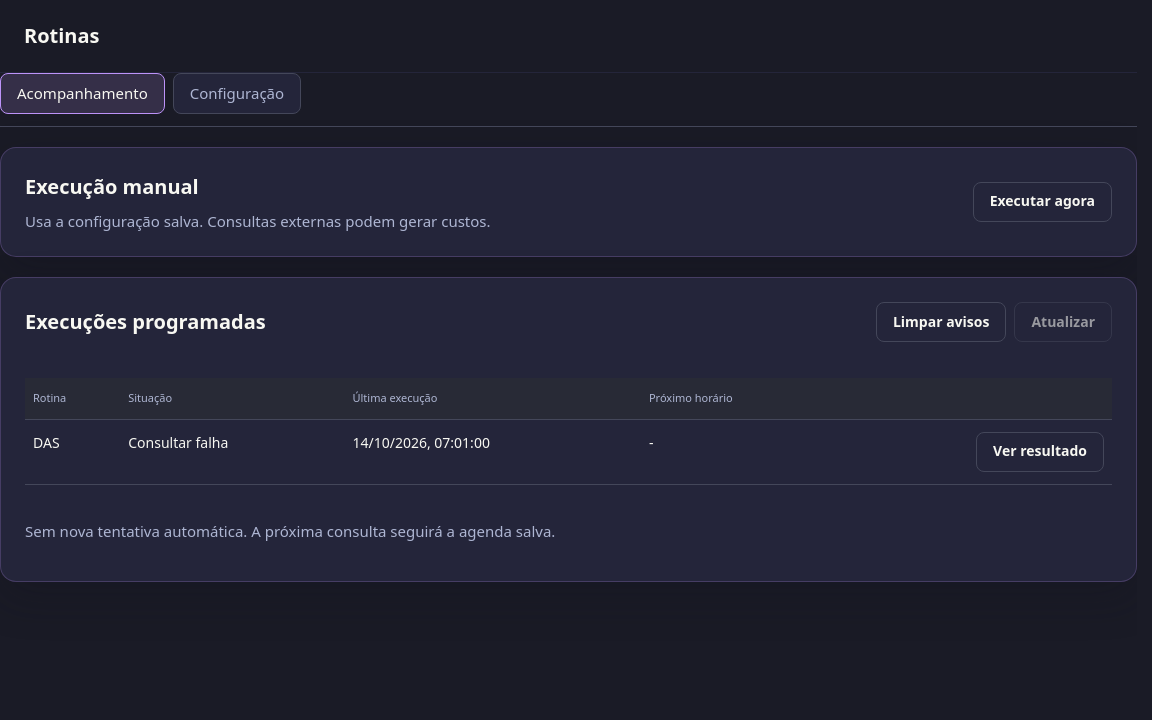
retorno de captura preserva falhas parciais e execução ignorada sem sucesso global
Click the button "Executar agora".
click(1042, 202)  # box x1=973 y1=182 x2=1112 y2=222
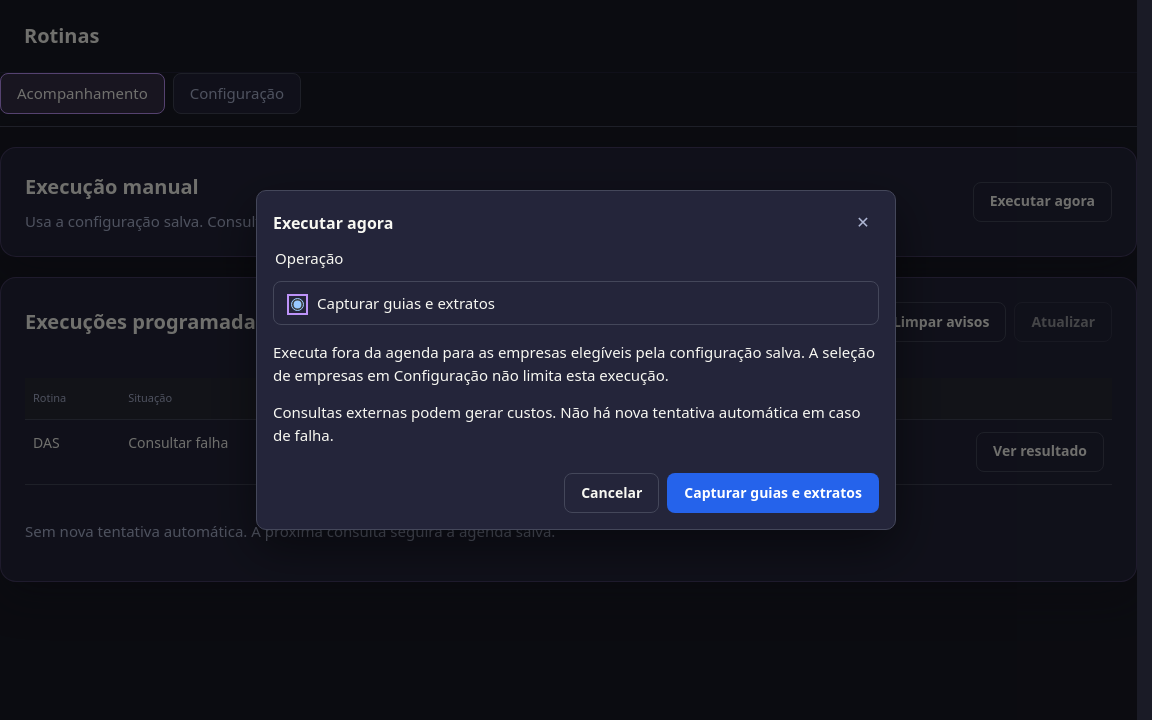
Click the button "Capturar guias e extratos".
click(773, 493)  # box x1=667 y1=473 x2=879 y2=513
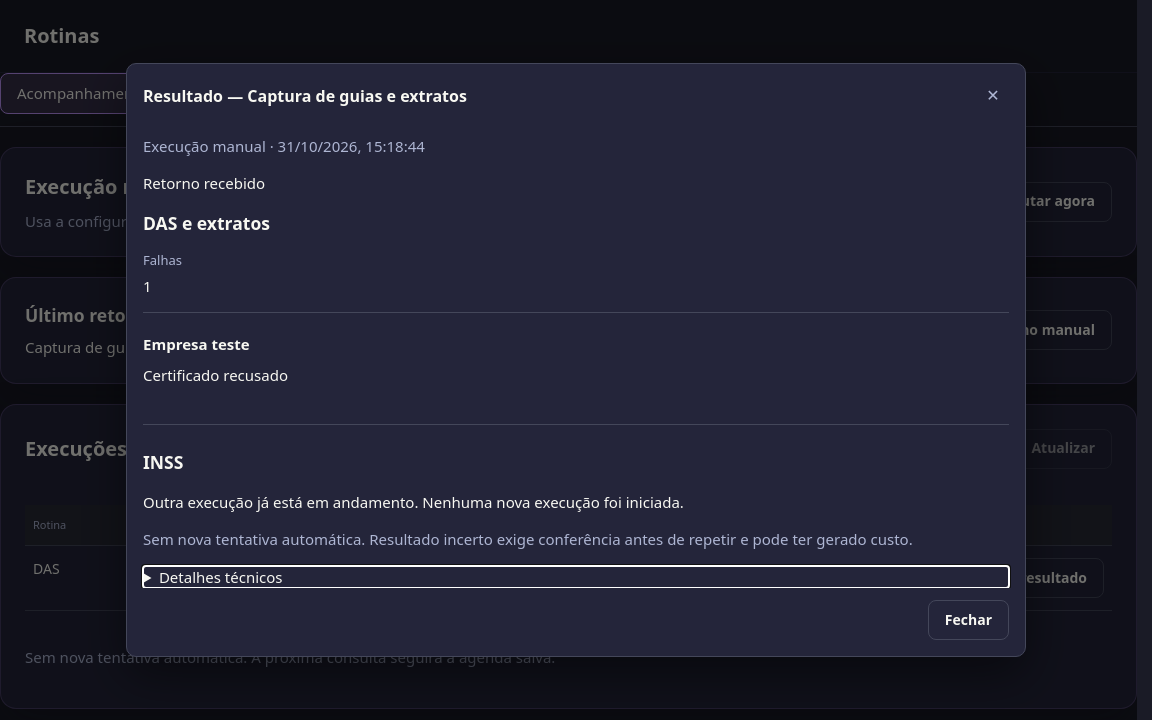
Now the heading "DAS e extratos" is shown, box x1=143 y1=211 x2=270 y2=235
Now the heading "INSS" is shown, box x1=143 y1=450 x2=183 y2=474
Now the dialog "Resultado — Captura de guias e extratos" shows "Certificado recusado", box x1=143 y1=365 x2=288 y2=385
